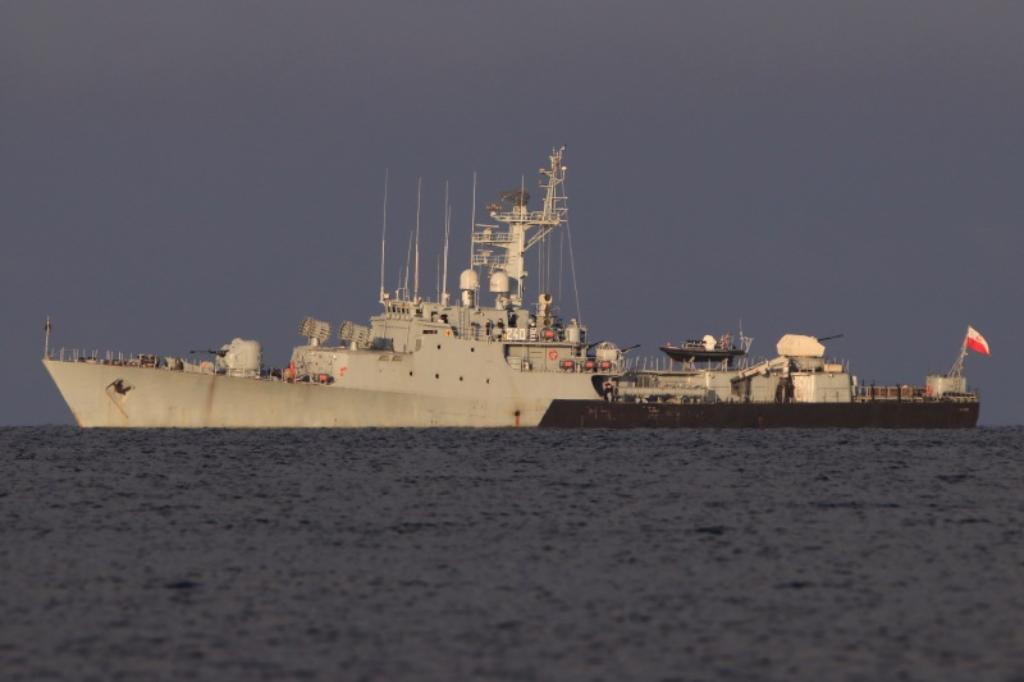Warship: (40, 140, 982, 430)
